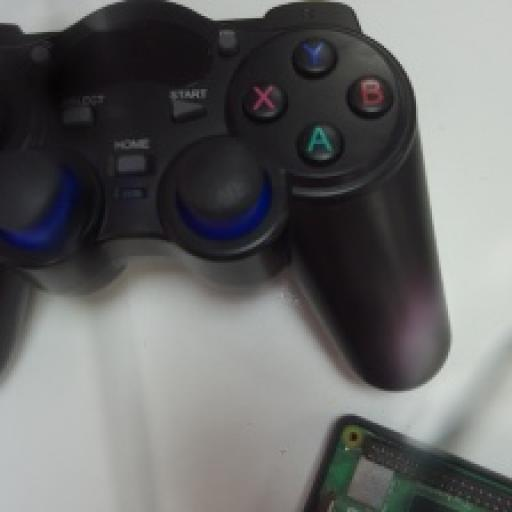game pad: (0, 2, 448, 389)
